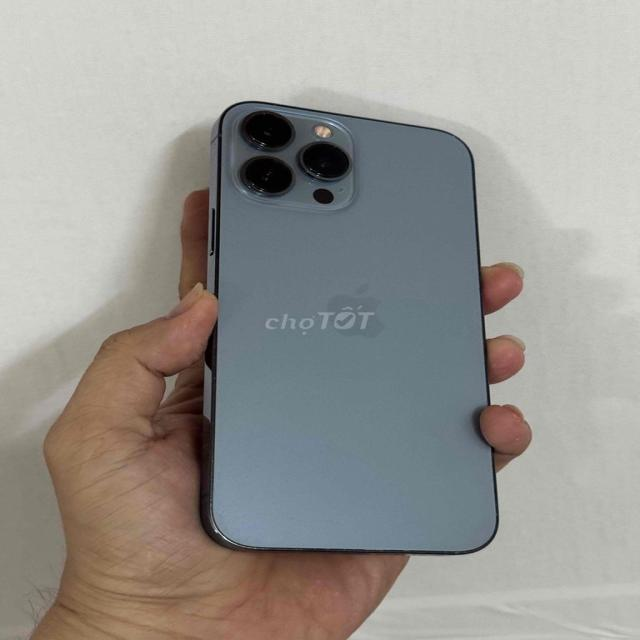gen_12_13: (207, 94, 509, 563)
